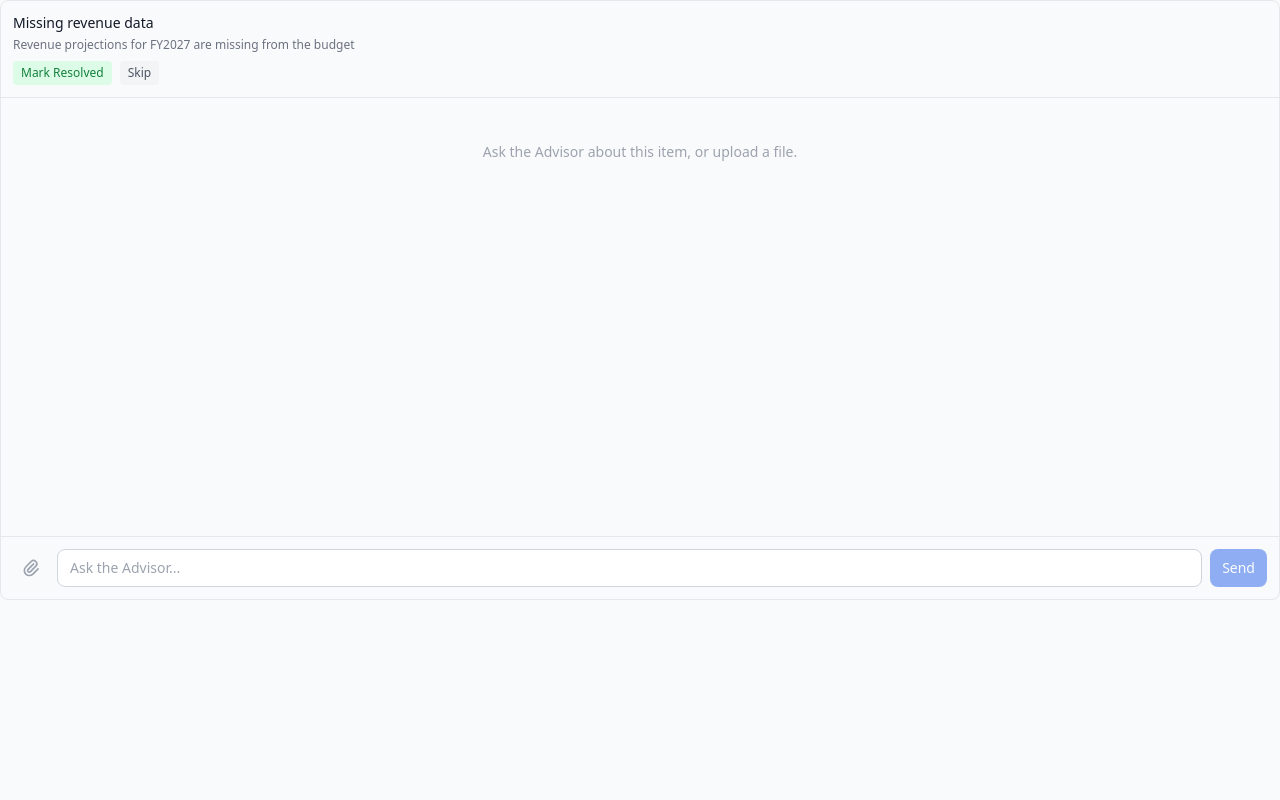
Test: TodoChat › adds optimistic user message before server response
This screenshot has width=1280, height=800.
Step 1. Type "My message" into the field with placeholder "Ask the Advisor..." → (630, 568), box [57,549,1202,587]
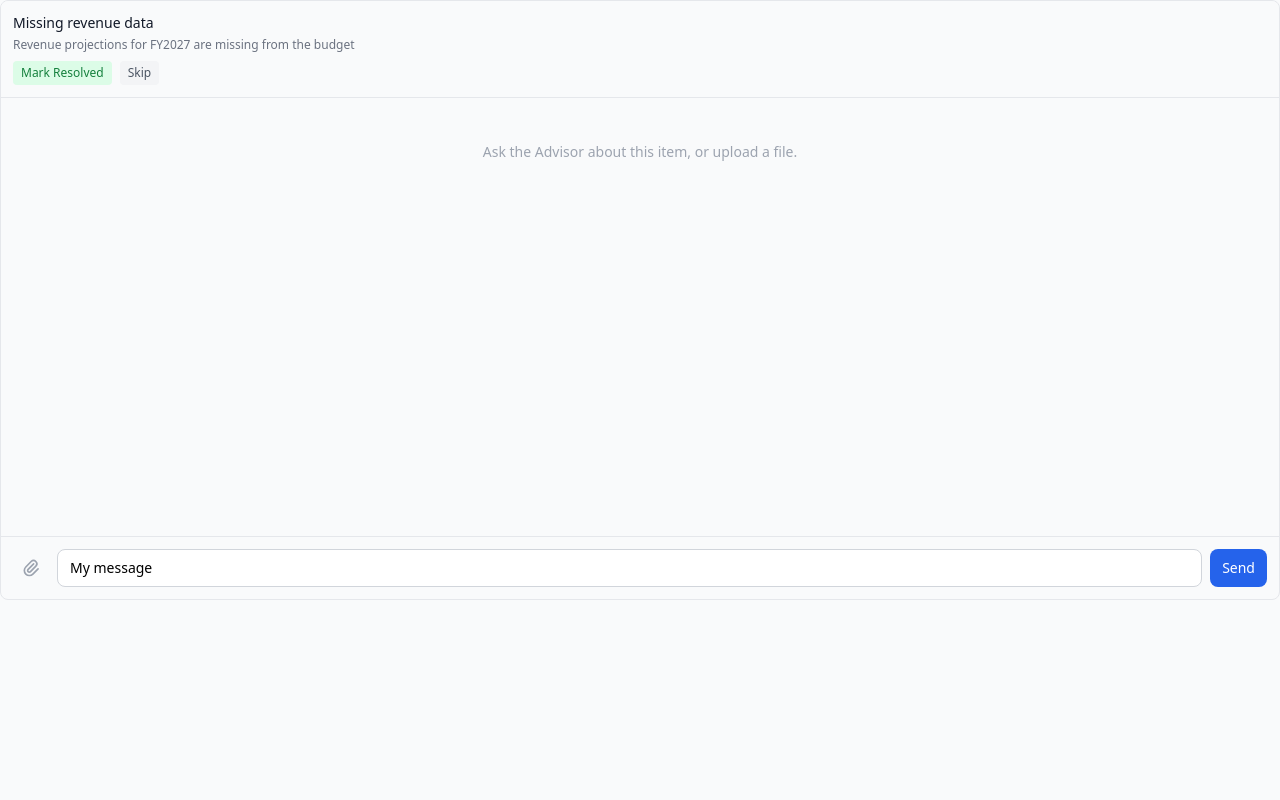
Step 2. Press Enter in the field with placeholder "Ask the Advisor...", box [57,549,1202,587]
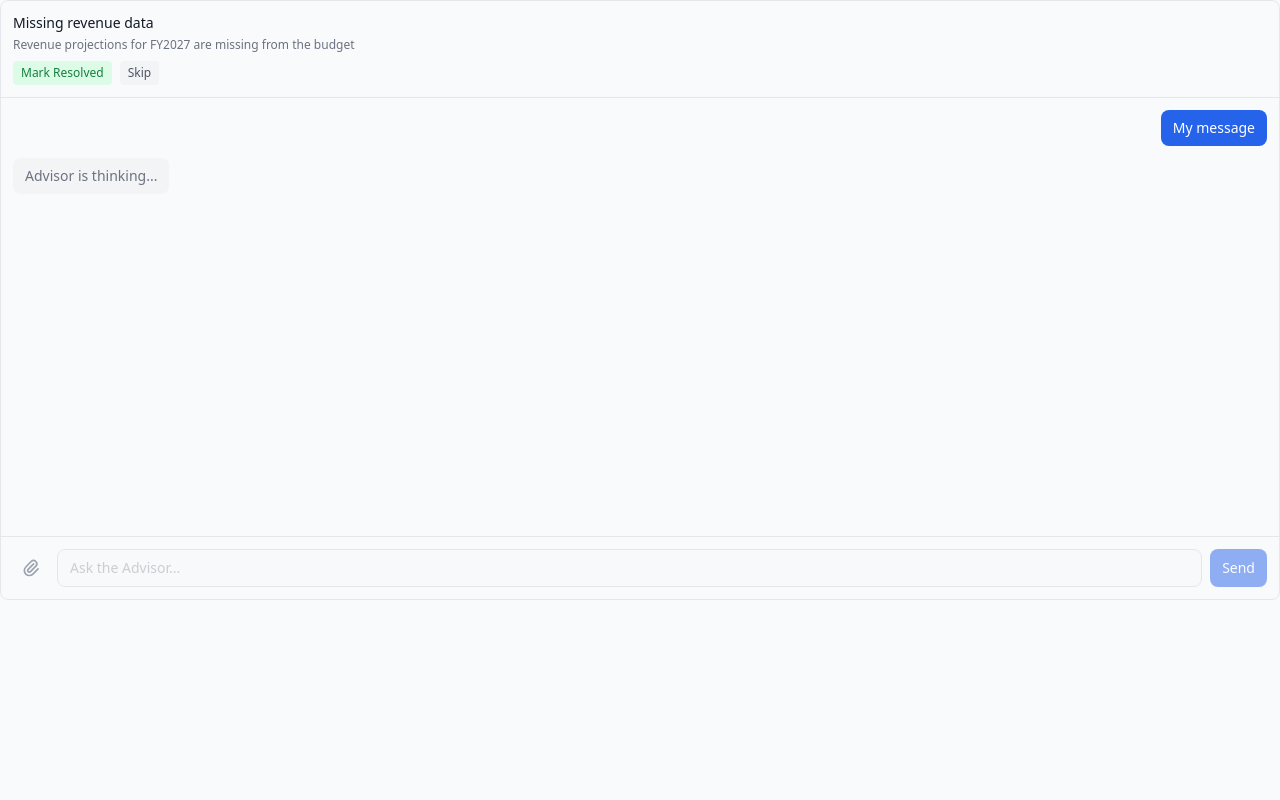
Expected: the text "My message" is shown, [1173,118,1255,138]
